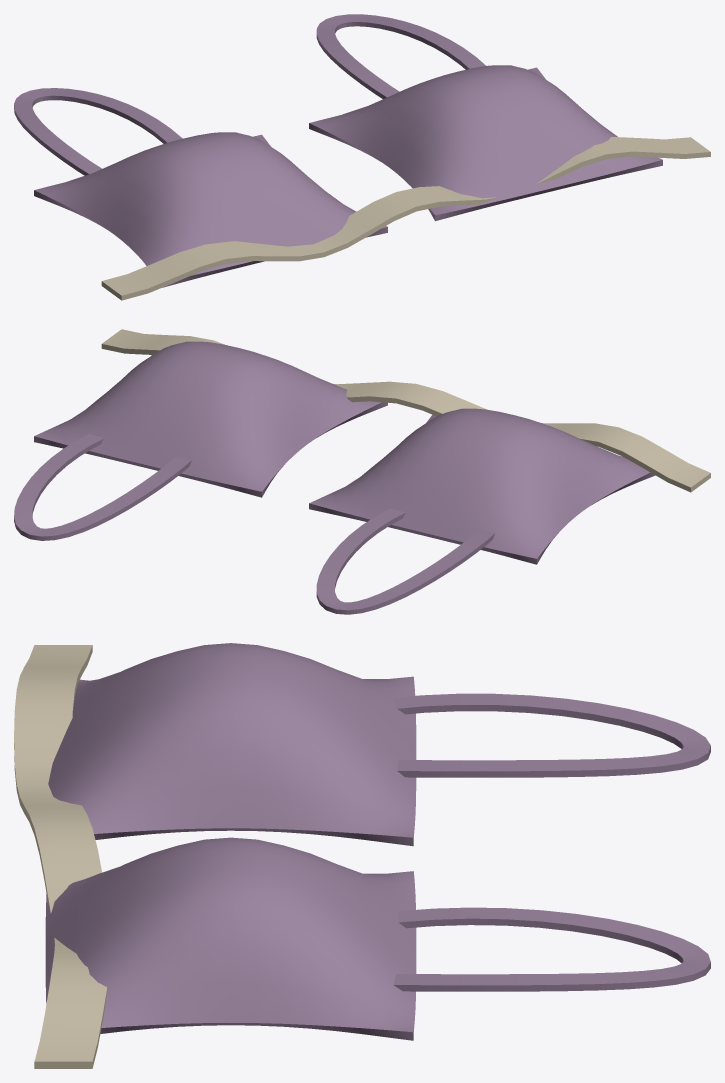
Rendered from bra-dropped-mint-7c475a8637f8.glb.
3 views of the same model, one above another, from view 1: azimuth 30°, elevation 25°; view 2: azimuth 150°, elevation 25°; view 3: azimuth 270°, elevation 25° (orthographic). The views are drawn at different scales.
Visible parts, largest first — view 1: cloth-lilac, cloth-cream; view 2: cloth-lilac, cloth-cream; view 3: cloth-lilac, cloth-cream.
Boxes of the visible parts, x1=… form: cloth-lilac: x1=14, y1=14, x2=662, y2=287; cloth-cream: x1=101, y1=137, x2=710, y2=300; cloth-lilac: x1=14, y1=341, x2=655, y2=614; cloth-cream: x1=101, y1=329, x2=710, y2=492; cloth-lilac: x1=45, y1=643, x2=710, y2=1040; cloth-cream: x1=14, y1=645, x2=107, y2=1068.
Bounding box in the file's own units: 0.3 × 0.034 × 0.212.
